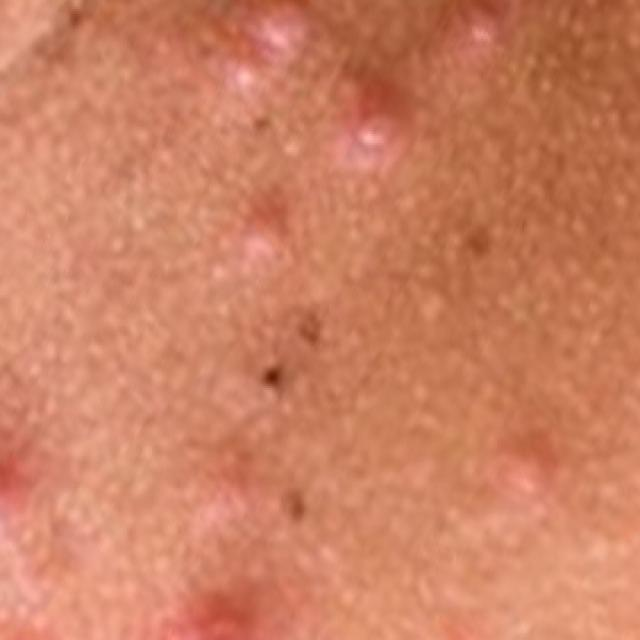acne: (100, 565, 314, 640), (436, 432, 594, 518), (220, 0, 324, 111), (210, 186, 306, 279), (338, 77, 406, 173), (0, 433, 50, 563), (429, 0, 513, 70)
